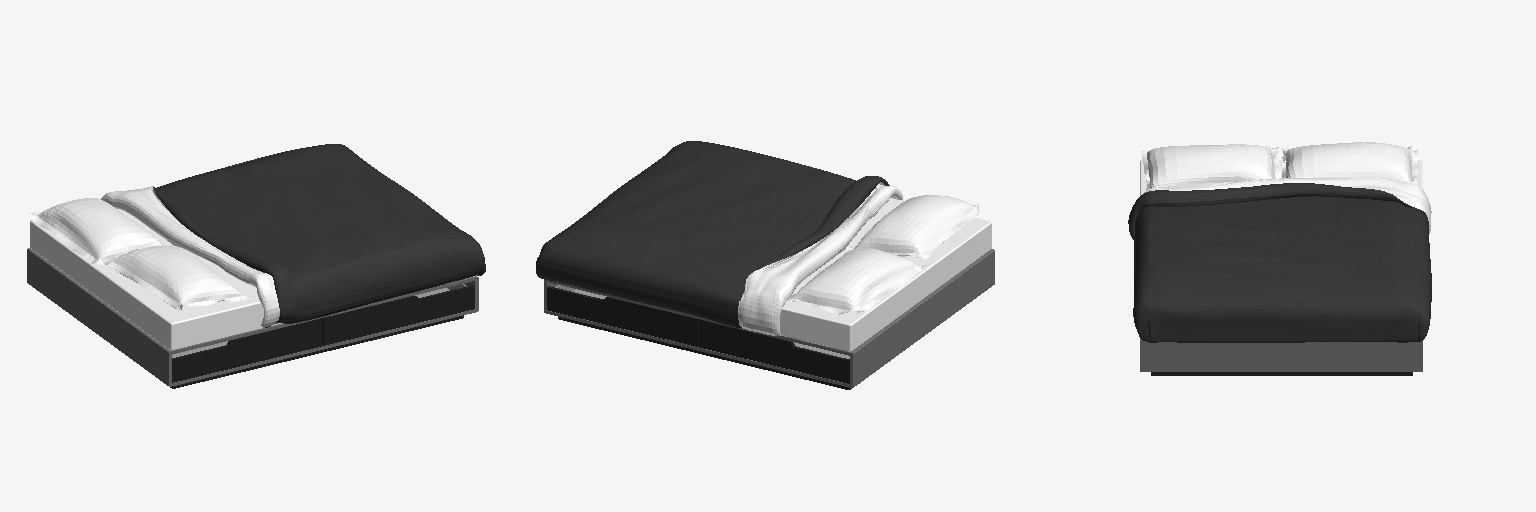
The model's file is mandal_bed_2_obj0_object.obj.
3 renders of one model, left to right at view 1: azimuth 30°, elevation 25°; view 2: azimuth 150°, elevation 25°; view 3: azimuth 270°, elevation 25°, orthographic.
Visible parts, largest first — view 1: Mesh45 Y1 marylin_3d1 Model, Mesh1 Group1 Model, Mesh44 T1 marylin_3d1 Model, Mesh29 Component_20_1 Component_19_1 Model, Mesh43 R1 marylin_3d1 Model, Mesh41 Group7 marylin_3d1 Model, Mesh8 Component_16_3 Group5 Component_19_1 Model, Mesh10 Component_16_4 Group6 Component_19_1 Model, Mesh33 Component_8_2 Component_19_1 Model, Mesh31 Component_13_2 Component_19_1 Model, Mesh39 Group_4_1 Component_19_1 Model; view 2: Mesh45 Y1 marylin_3d1 Model, Mesh1 Group1 Model, Mesh41 Group7 marylin_3d1 Model, Mesh43 R1 marylin_3d1 Model, Mesh29 Component_20_1 Component_19_1 Model, Mesh44 T1 marylin_3d1 Model, Mesh3 Component_16_1 Group2 Component_19_1 Model, Mesh5 Component_16_2 Group3 Component_19_1 Model, Mesh30 Component_8_1 Component_19_1 Model, Mesh40 Group_4_2 Component_19_1 Model, Mesh28 Component_13_1 Component_19_1 Model; view 3: Mesh45 Y1 marylin_3d1 Model, Mesh36 Component_20_2 Component_19_1 Model, Mesh44 T1 marylin_3d1 Model, Mesh43 R1 marylin_3d1 Model, Mesh41 Group7 marylin_3d1 Model, Mesh38 Group_7_2 Component_19_1 Model.
Part boxes in pixels (x1,y1,x2,y2): Mesh45 Y1 marylin_3d1 Model: (153, 144, 485, 327); Mesh1 Group1 Model: (30, 209, 476, 350); Mesh44 T1 marylin_3d1 Model: (102, 246, 253, 310); Mesh29 Component_20_1 Component_19_1 Model: (27, 249, 171, 386); Mesh43 R1 marylin_3d1 Model: (30, 198, 162, 264); Mesh41 Group7 marylin_3d1 Model: (101, 186, 279, 327); Mesh8 Component_16_3 Group5 Component_19_1 Model: (323, 285, 474, 345); Mesh10 Component_16_4 Group6 Component_19_1 Model: (172, 318, 322, 382); Mesh33 Component_8_2 Component_19_1 Model: (164, 309, 477, 386); Mesh31 Component_13_2 Component_19_1 Model: (161, 276, 477, 354); Mesh39 Group_4_1 Component_19_1 Model: (179, 317, 457, 387); Mesh45 Y1 marylin_3d1 Model: (536, 141, 889, 327); Mesh1 Group1 Model: (780, 198, 991, 351); Mesh41 Group7 marylin_3d1 Model: (738, 182, 902, 335); Mesh43 R1 marylin_3d1 Model: (785, 248, 926, 314); Mesh29 Component_20_1 Component_19_1 Model: (850, 250, 994, 387); Mesh44 T1 marylin_3d1 Model: (844, 195, 979, 259); Mesh3 Component_16_1 Group2 Component_19_1 Model: (547, 286, 698, 346); Mesh5 Component_16_2 Group3 Component_19_1 Model: (699, 319, 849, 383); Mesh30 Component_8_1 Component_19_1 Model: (544, 310, 859, 387); Mesh40 Group_4_2 Component_19_1 Model: (564, 318, 842, 388); Mesh28 Component_13_1 Component_19_1 Model: (546, 280, 860, 355); Mesh45 Y1 marylin_3d1 Model: (1128, 183, 1431, 342); Mesh36 Component_20_2 Component_19_1 Model: (1140, 338, 1422, 371); Mesh44 T1 marylin_3d1 Model: (1141, 144, 1280, 190); Mesh43 R1 marylin_3d1 Model: (1281, 142, 1417, 183); Mesh41 Group7 marylin_3d1 Model: (1142, 178, 1431, 233); Mesh38 Group_7_2 Component_19_1 Model: (1151, 372, 1412, 375).
Bounding box in the file's own units: 82.48 × 24.48 × 67.5.